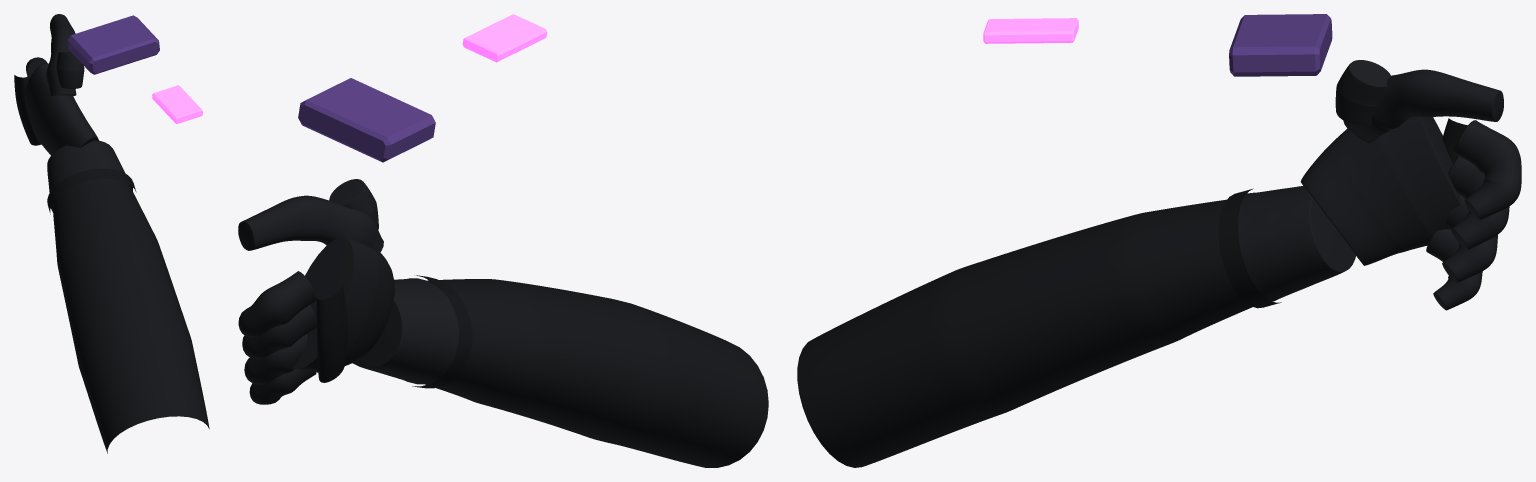
File: hands_tempest_magin.glb
3 views of the same model, side by side, from view 1: azimuth 30°, elevation 25°; view 2: azimuth 150°, elevation 25°; view 3: azimuth 270°, elevation 25° (orthographic). The views are drawn at different scales.
Parts seen in each view (by area): view 1: hand_l_forearm, hand_l_palm, hand_l_cuff_plate, hand_l_cuff, hand_l_thumb, hand_l_lamp, hand_l_cuff_strap, hand_l_web, hand_l_knuckle_panel, hand_l_index; view 2: hand_l_forearm, hand_l_cuff, hand_l_palm, hand_l_cuff_plate, hand_l_thumb, hand_l_index, hand_l_knuckle_panel, hand_l_lamp, hand_l_middle, hand_l_cuff_strap, hand_l_ring, hand_l_little (+1 smaller); view 3: hand_l_forearm, hand_l_palm, hand_l_cuff, hand_l_cuff_plate, hand_l_thumb, hand_l_index, hand_l_web, hand_l_cuff_strap, hand_l_middle, hand_l_lamp, hand_l_ring, hand_l_little.
Part boxes in pixels (<box>): hand_l_forearm: <box>52,179,209,453</box>; hand_l_palm: <box>24,63,98,155</box>; hand_l_cuff_plate: <box>67,15,159,74</box>; hand_l_cuff: <box>47,140,132,211</box>; hand_l_thumb: <box>46,14,76,96</box>; hand_l_lamp: <box>152,85,202,123</box>; hand_l_cuff_strap: <box>47,168,136,214</box>; hand_l_web: <box>56,52,84,88</box>; hand_l_knuckle_panel: <box>14,75,41,145</box>; hand_l_index: <box>26,57,47,78</box>; hand_l_forearm: <box>425,279,768,467</box>; hand_l_cuff: <box>352,278,458,384</box>; hand_l_palm: <box>292,238,394,372</box>; hand_l_cuff_plate: <box>298,78,435,162</box>; hand_l_thumb: <box>238,195,383,254</box>; hand_l_index: <box>238,271,316,337</box>; hand_l_knuckle_panel: <box>316,285,347,382</box>; hand_l_lamp: <box>462,14,547,62</box>; hand_l_middle: <box>242,305,316,359</box>; hand_l_cuff_strap: <box>412,275,472,388</box>; hand_l_ring: <box>244,334,307,384</box>; hand_l_little: <box>249,369,316,404</box>; hand_l_forearm: <box>797,199,1252,467</box>; hand_l_palm: <box>1300,117,1461,265</box>; hand_l_cuff: <box>1238,186,1355,301</box>; hand_l_cuff_plate: <box>1229,14,1332,76</box>; hand_l_thumb: <box>1343,69,1503,143</box>; hand_l_index: <box>1453,120,1521,220</box>; hand_l_web: <box>1335,60,1390,125</box>; hand_l_cuff_strap: <box>1218,188,1281,308</box>; hand_l_middle: <box>1448,156,1509,250</box>; hand_l_lamp: <box>983,18,1078,43</box>; hand_l_ring: <box>1442,195,1497,282</box>; hand_l_little: <box>1426,229,1482,310</box>.
Size of the model in its own units: 0.1398 by 0.2456 by 0.318.
